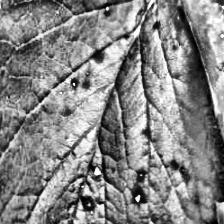Leaf Spot: (0, 0, 224, 224), (172, 0, 224, 224), (0, 0, 49, 82)
